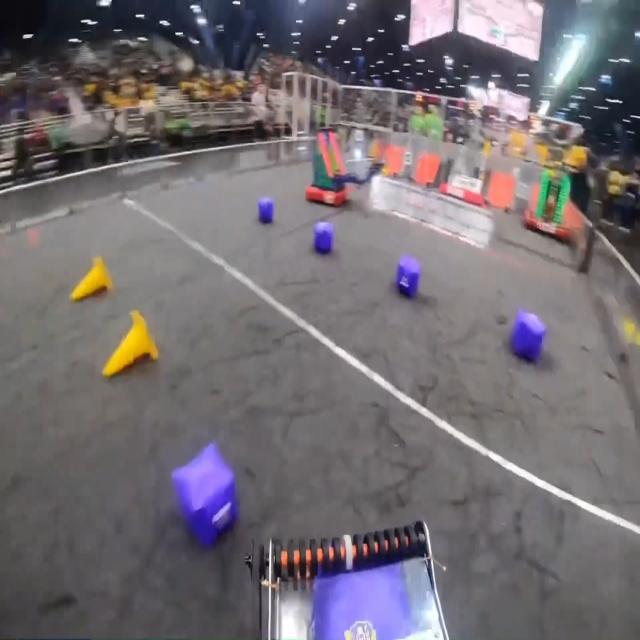robot: (305, 123, 383, 206), (524, 159, 573, 244), (438, 143, 488, 210)
